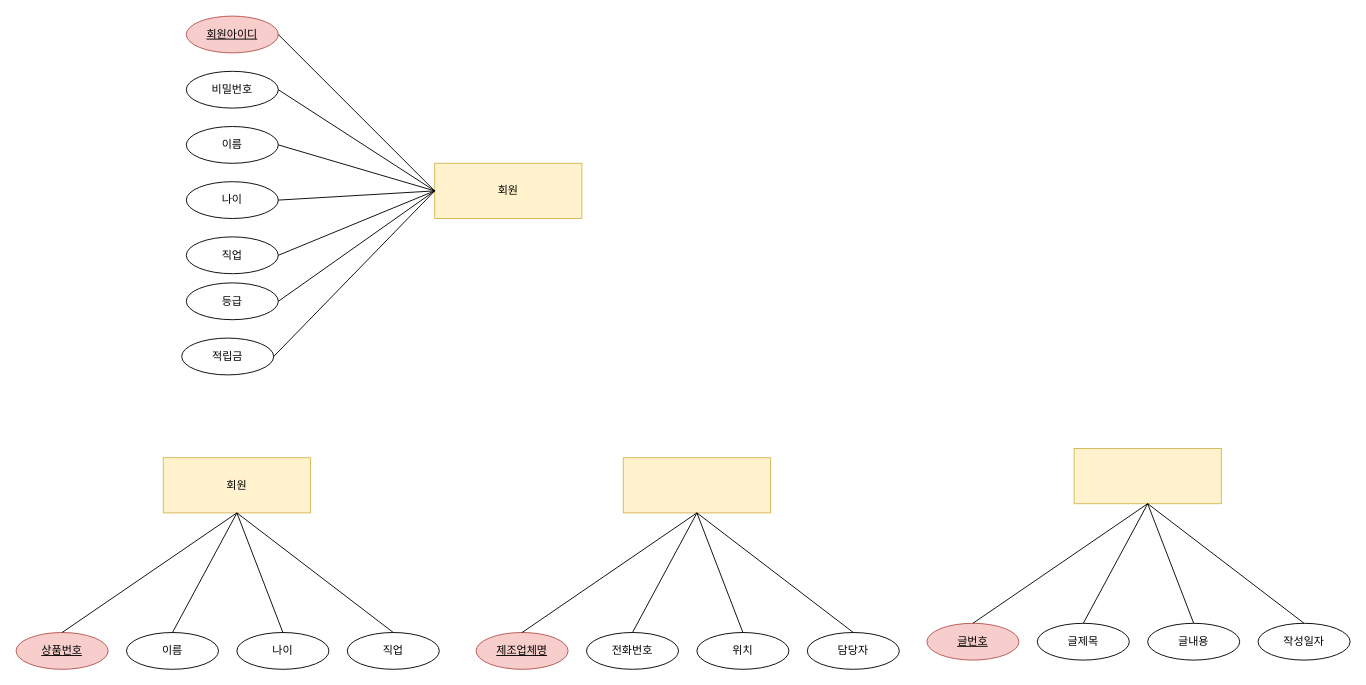
The diagram is 1366 pixels wide and 685 high, and some of its shapes have lost their labels. The box of each missing label's shape, as (x1, y1, x2, y2) in pixels:
게시글: (1073, 448, 1221, 504)
제조업체: (622, 457, 770, 513)
